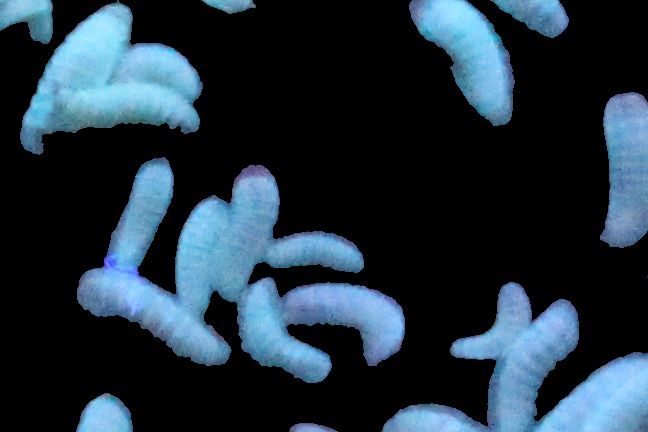larvae: (2, 12, 119, 149), (402, 1, 536, 117), (83, 269, 223, 372), (489, 294, 578, 432), (281, 277, 403, 365), (534, 349, 648, 432), (591, 86, 648, 248), (103, 158, 174, 270), (239, 289, 319, 386), (54, 84, 196, 134), (214, 168, 274, 286), (171, 194, 232, 308), (264, 220, 370, 276), (445, 286, 527, 354), (115, 39, 205, 96), (381, 394, 486, 432), (497, 1, 571, 37)
